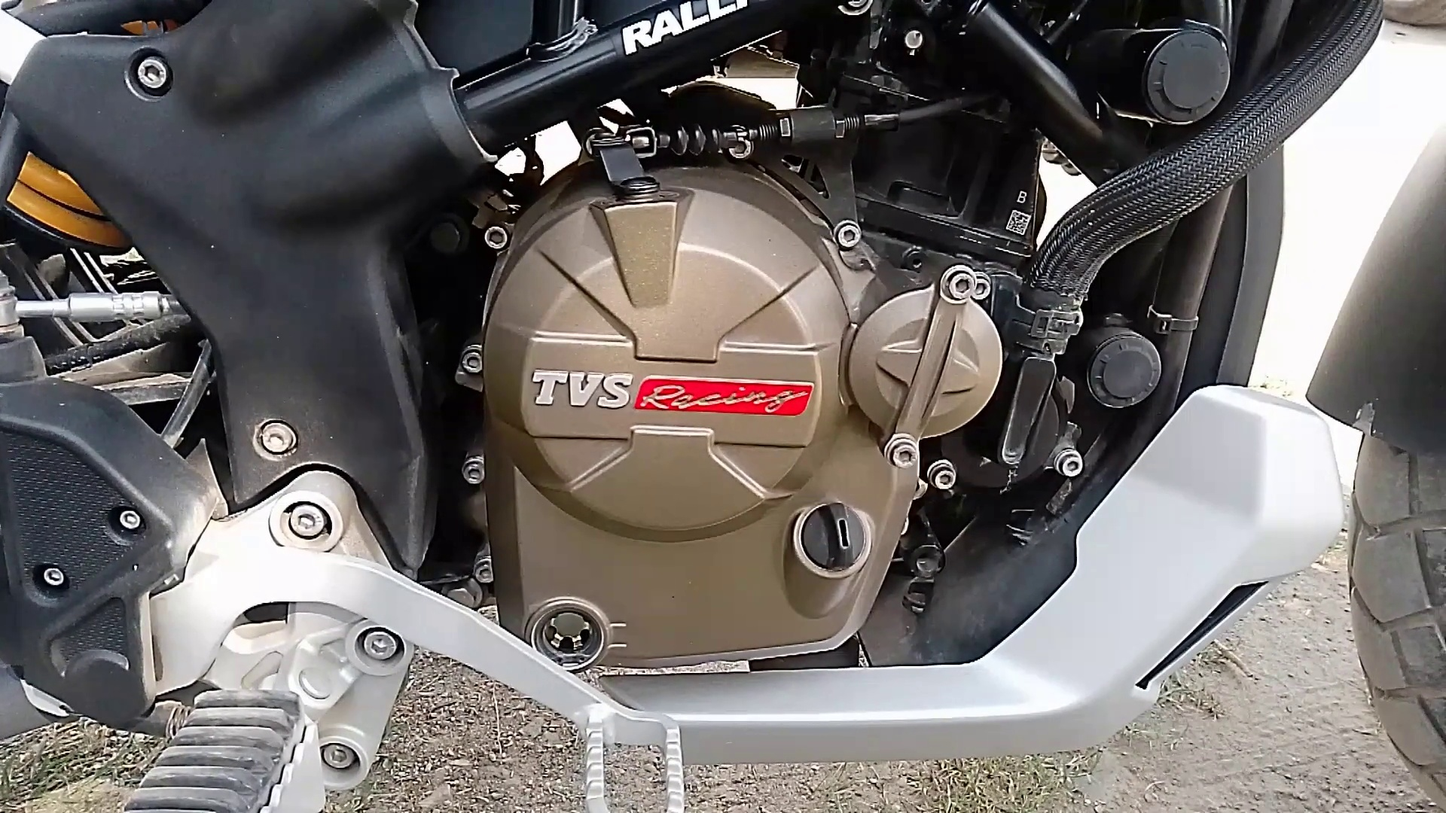bike-engine: (478, 141, 1001, 674)
bike-engine-level: (524, 597, 607, 672)
bike-oil-cap: (781, 494, 879, 581)
